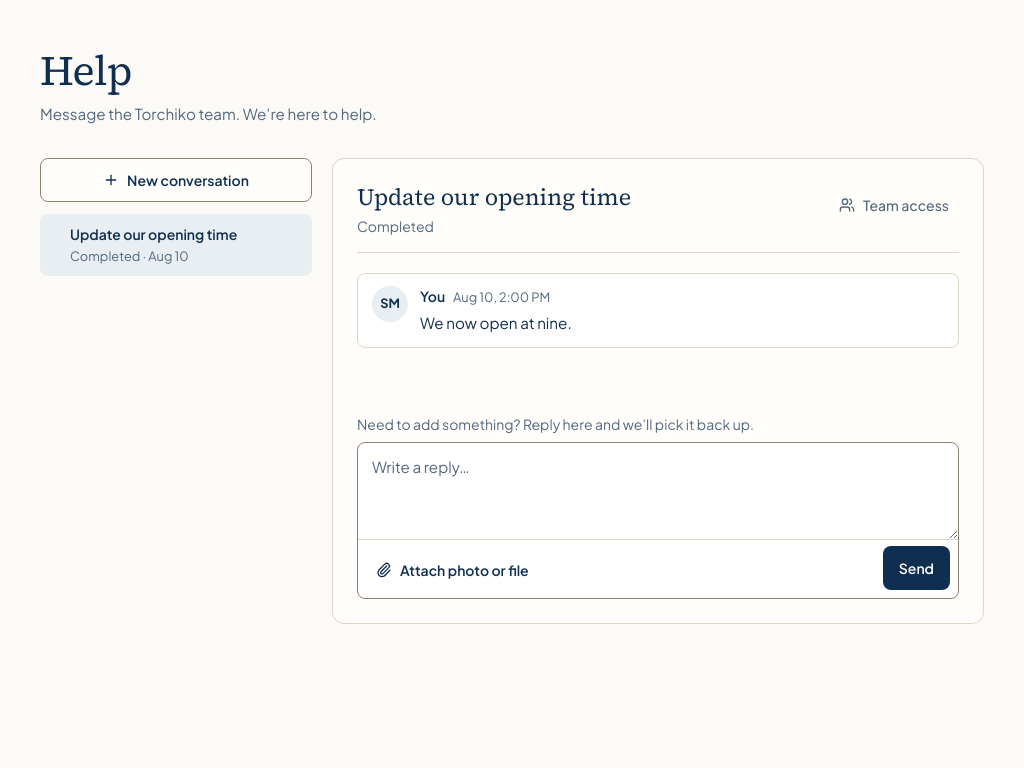
Test: SupportWorkspace › reopens a completed conversation when the client follows up
Expected: the text "Need to add something? Reply here and we’ll pick it back up." is shown, [357,415,754,433]
In the text box labelled "reply": (658, 491) [358,443,958,539], type "One more detail."
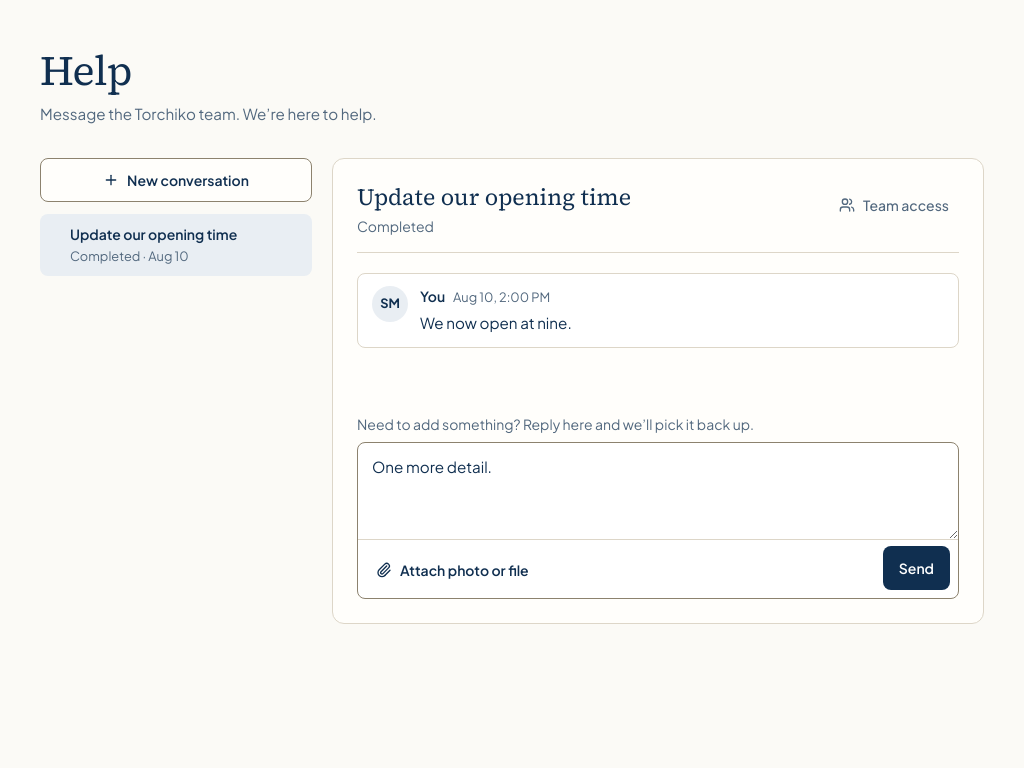
Click the button "Send": (916, 568) [883,546,950,590]
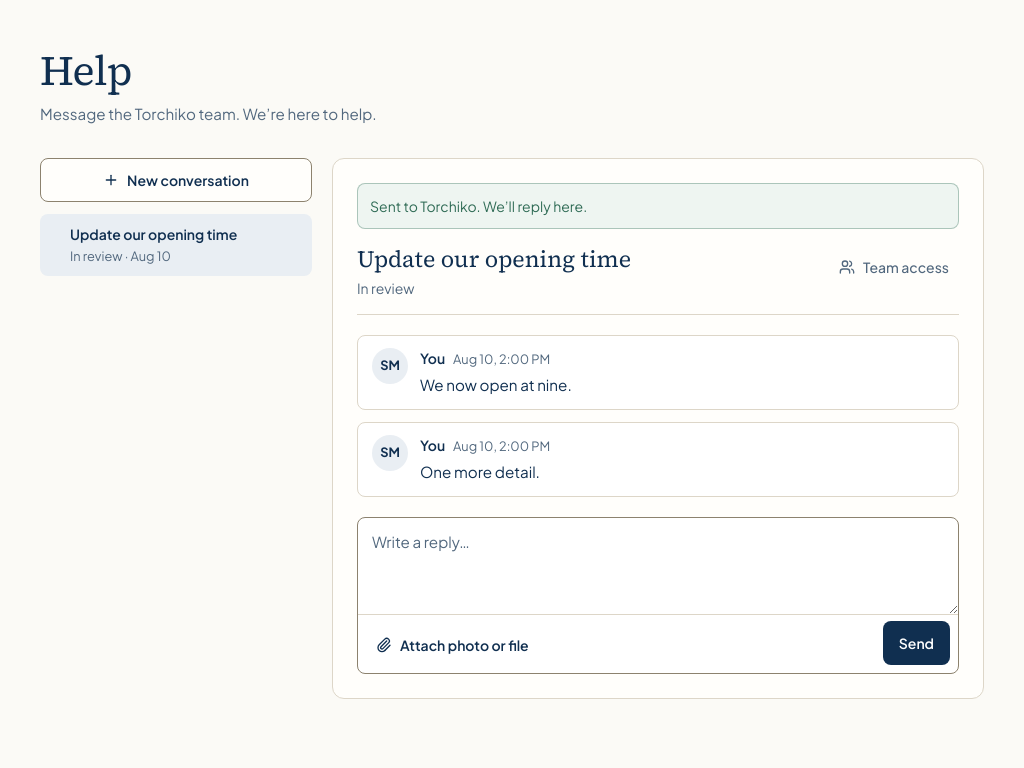
Expected: the text "In review" is shown, [357,279,414,297]
Expected: the text "pick it back up" is gone
